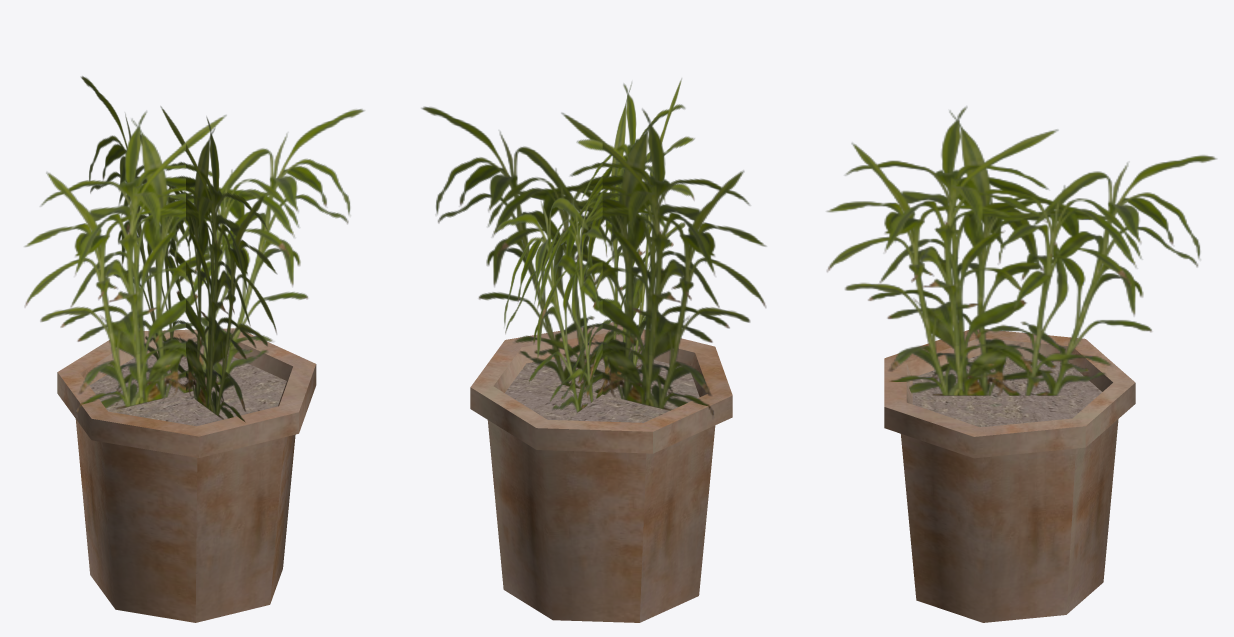
The model's file is Plants_04-col.glb.
The picture shows the model from 3 angles, left to right: view 1: azimuth 30°, elevation 25°; view 2: azimuth 150°, elevation 25°; view 3: azimuth 270°, elevation 25°; orthographic projection. The views are drawn at different scales.
Parts seen in each view (by area): view 1: Plants_04-col; view 2: Plants_04-col; view 3: Plants_04-col.
Boxes of the visible parts, left/top/right/bottom form: Plants_04-col: left=24, top=76, right=364, bottom=622; Plants_04-col: left=421, top=78, right=766, bottom=622; Plants_04-col: left=826, top=106, right=1216, bottom=622.
Bounding box in the file's own units: 0.8497 × 1.09 × 0.8432.
2 materials, 2 textured.
